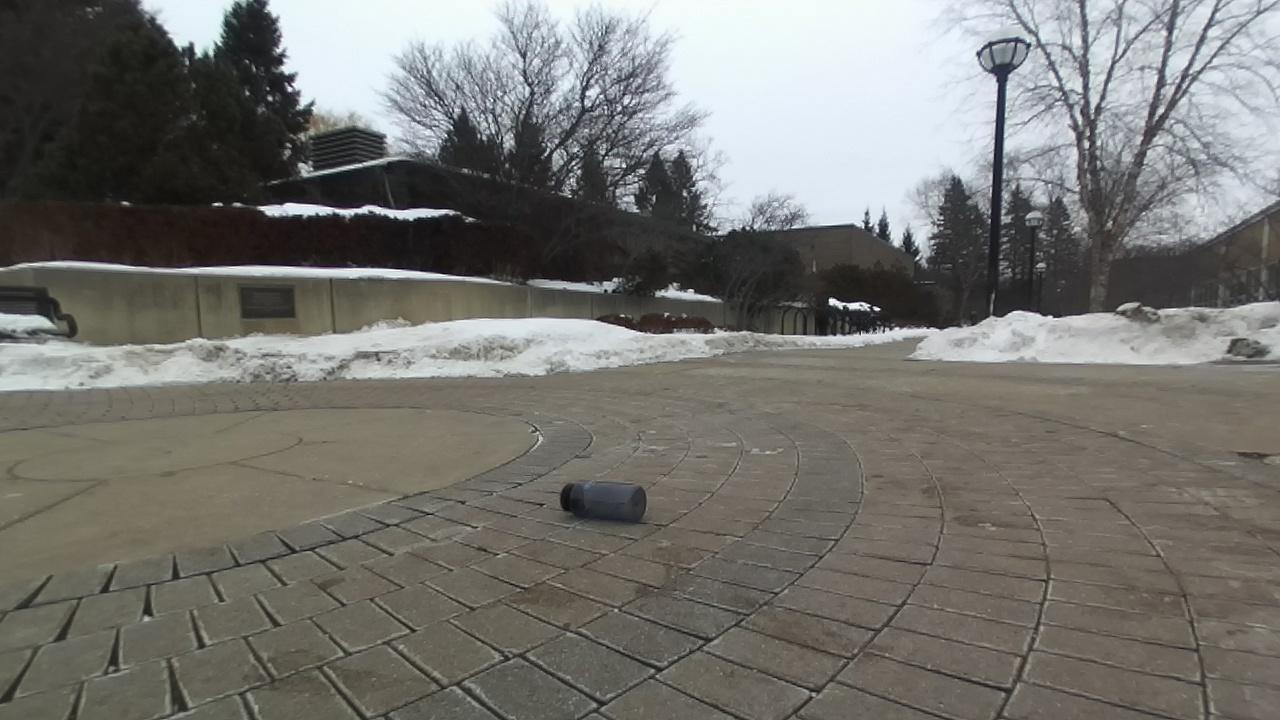bottle: (561, 482, 646, 521)
